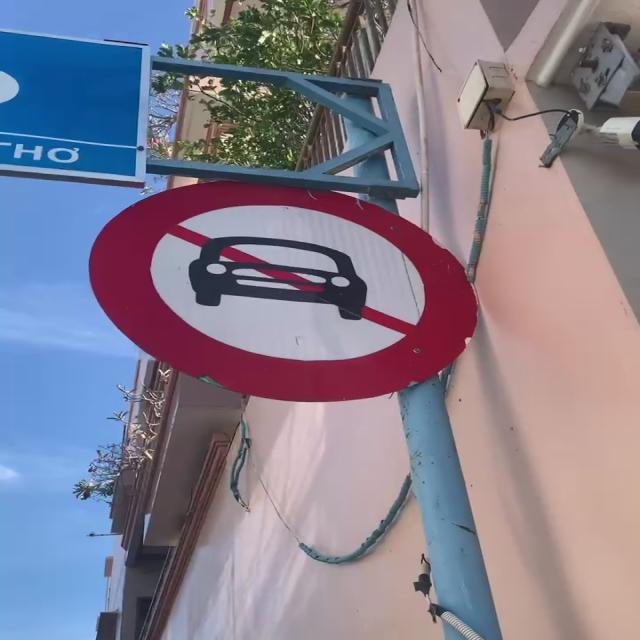Cam_O_To: (89, 176, 482, 400)
